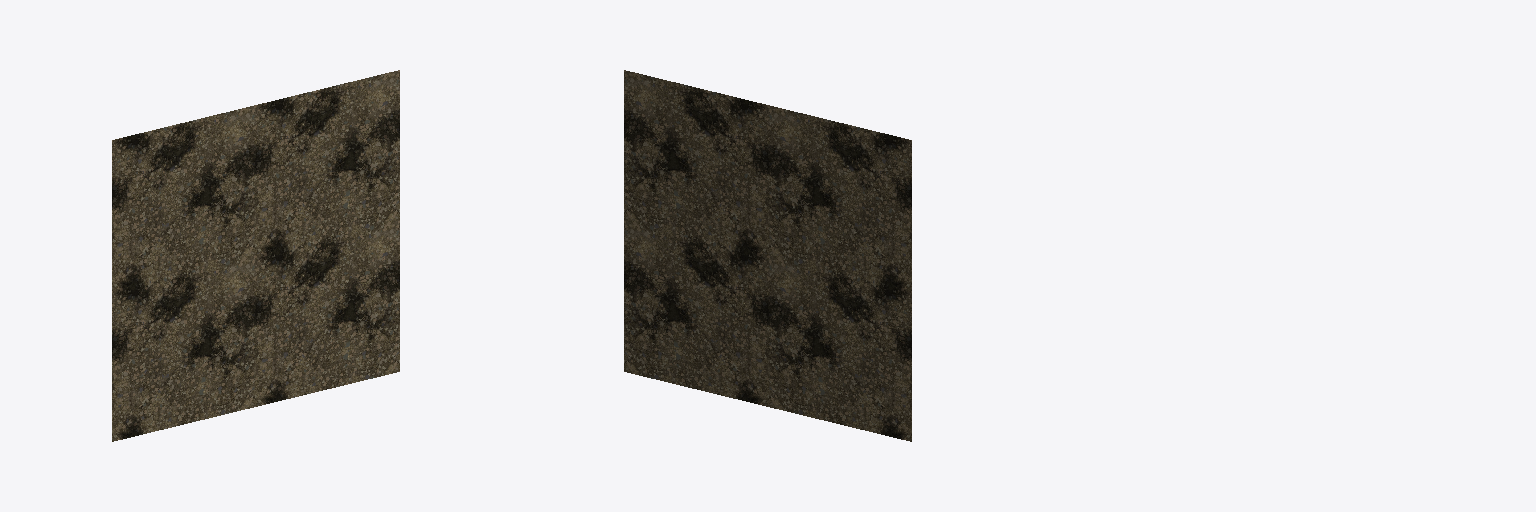
3 views of the same model, side by side, from view 1: azimuth 30°, elevation 25°; view 2: azimuth 150°, elevation 25°; view 3: azimuth 270°, elevation 25° (orthographic).
Parts seen in each view (by area): view 1: wall; view 2: wall; view 3: none.
Part boxes in pixels (left/top/right/bottom): wall: left=112, top=70, right=399, bottom=441; wall: left=624, top=70, right=911, bottom=441.
Size of the model in its own units: 20 by 20 by 0.
Materials: 1 (1 with a texture image).